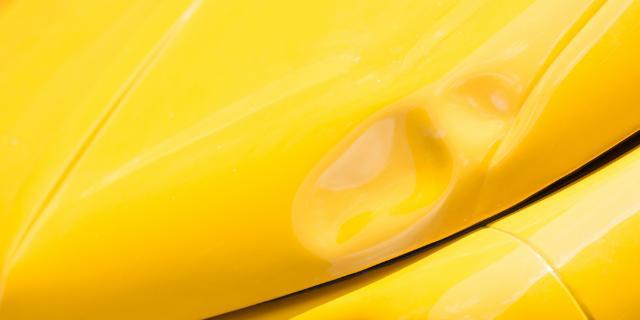dent: (295, 111, 454, 258), (441, 75, 520, 161)
